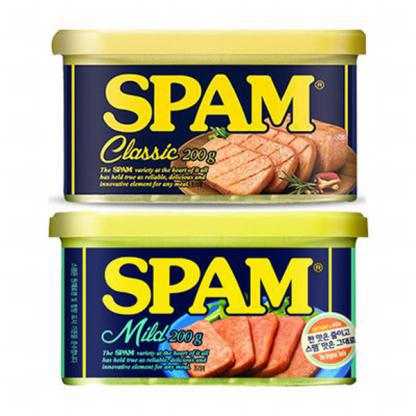spam: (47, 206, 371, 388), (50, 31, 368, 198)
